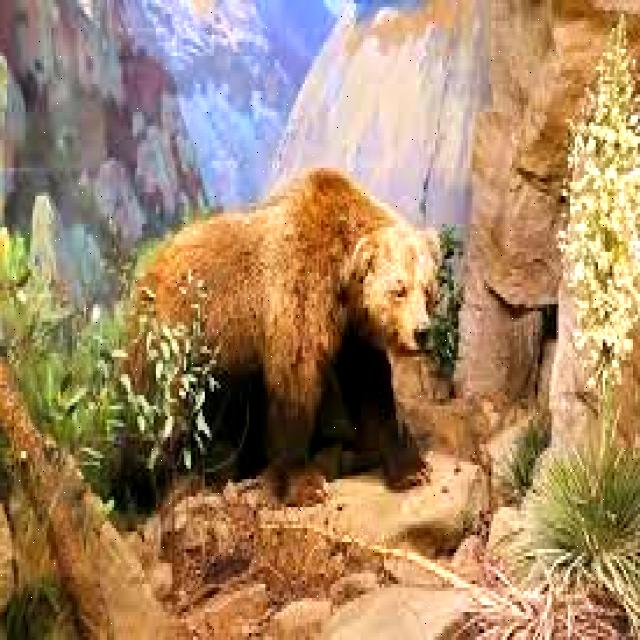bear: (93, 163, 446, 532)
